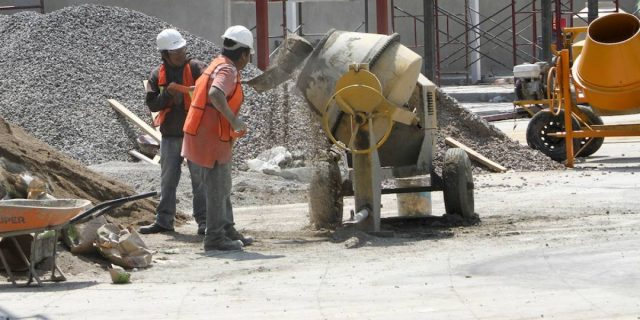casco: (220, 24, 257, 56), (155, 27, 187, 51)
